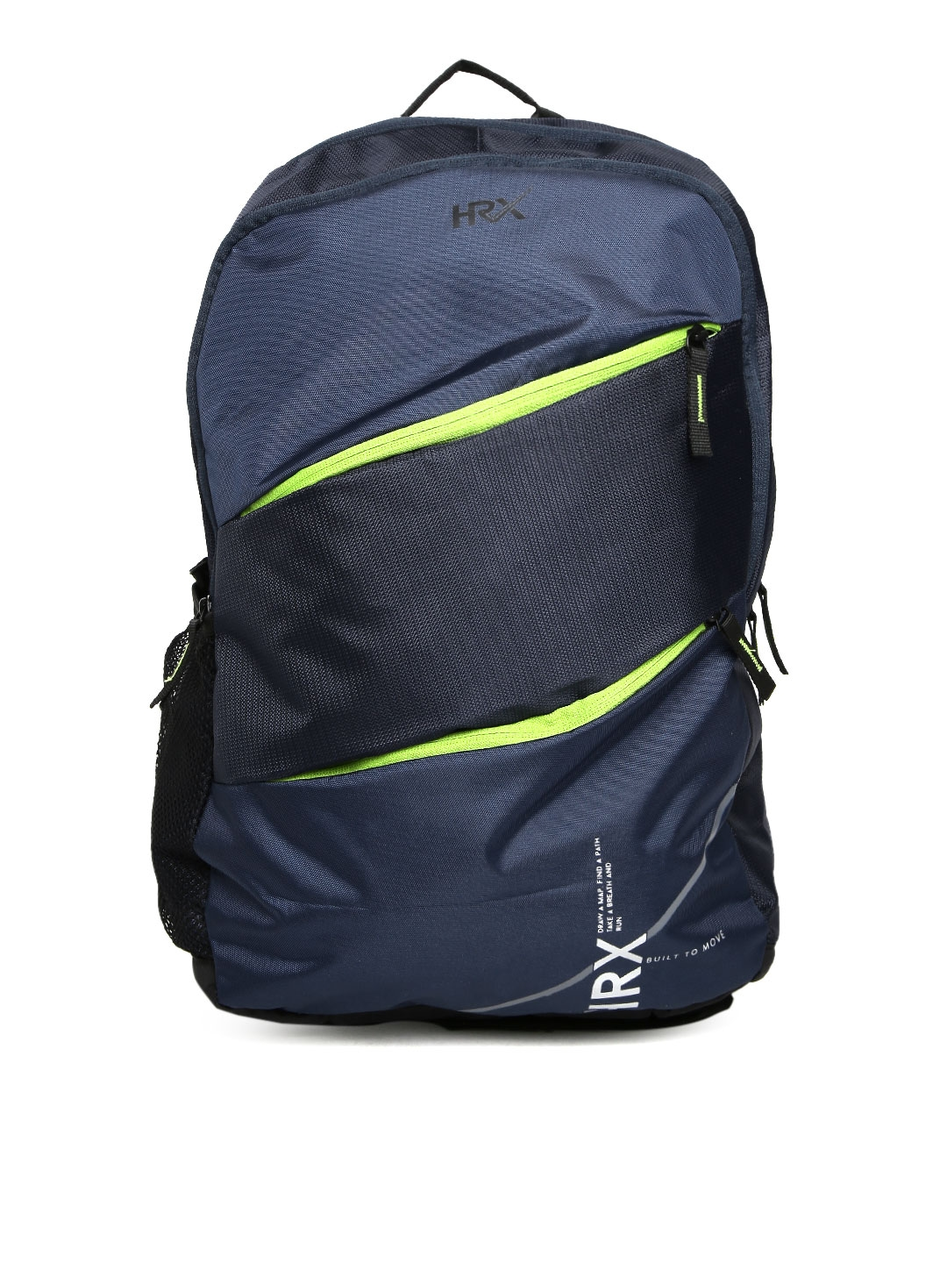backpack: (150, 58, 787, 1031)
